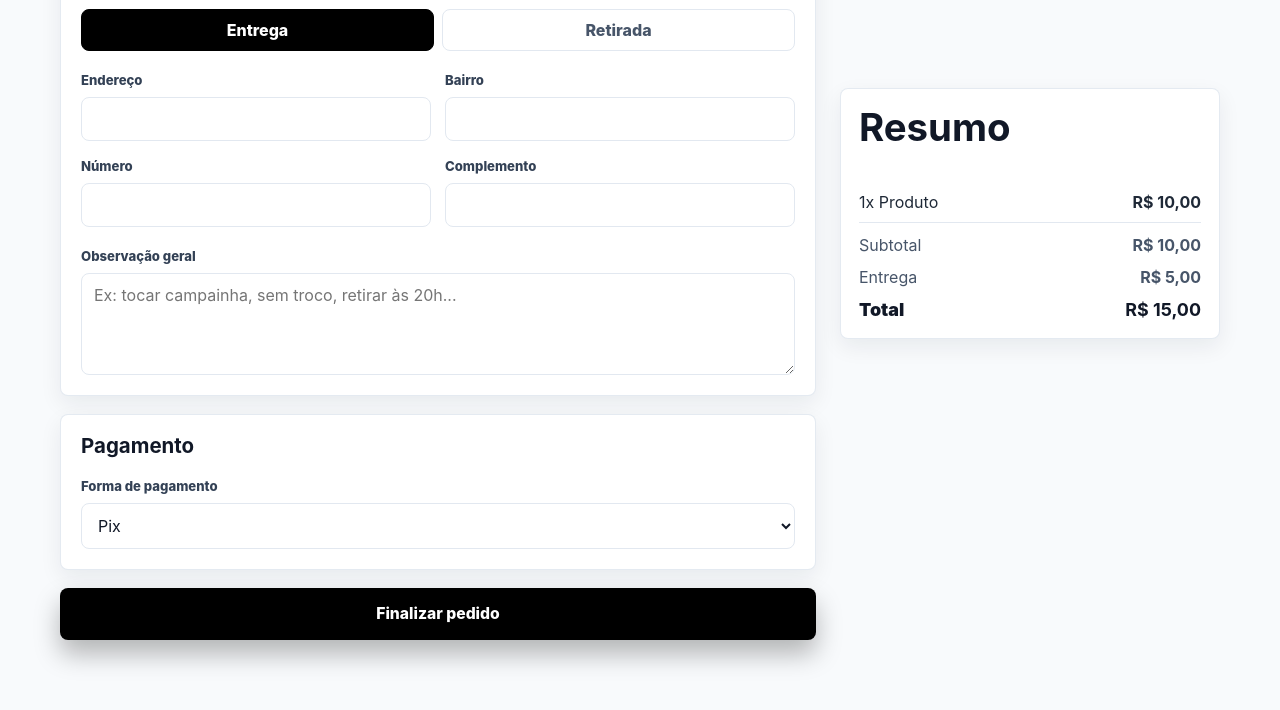
Test: CheckoutPage › valida campos obrigatorios
(page scrolled)
Step 1. Click the button "Finalizar pedido" → [438, 614], box [60,588,816,640]
(page scrolled)
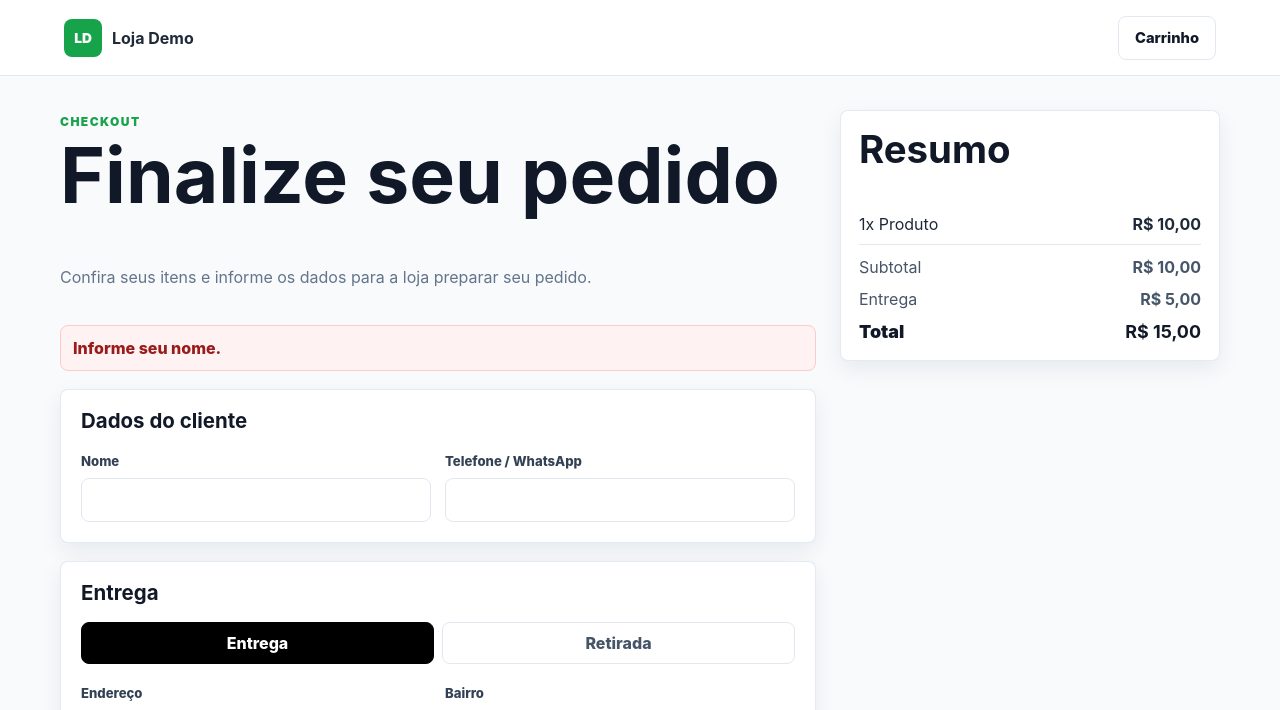
Expected: the text "Informe seu nome." is shown, [60,325,816,371]
